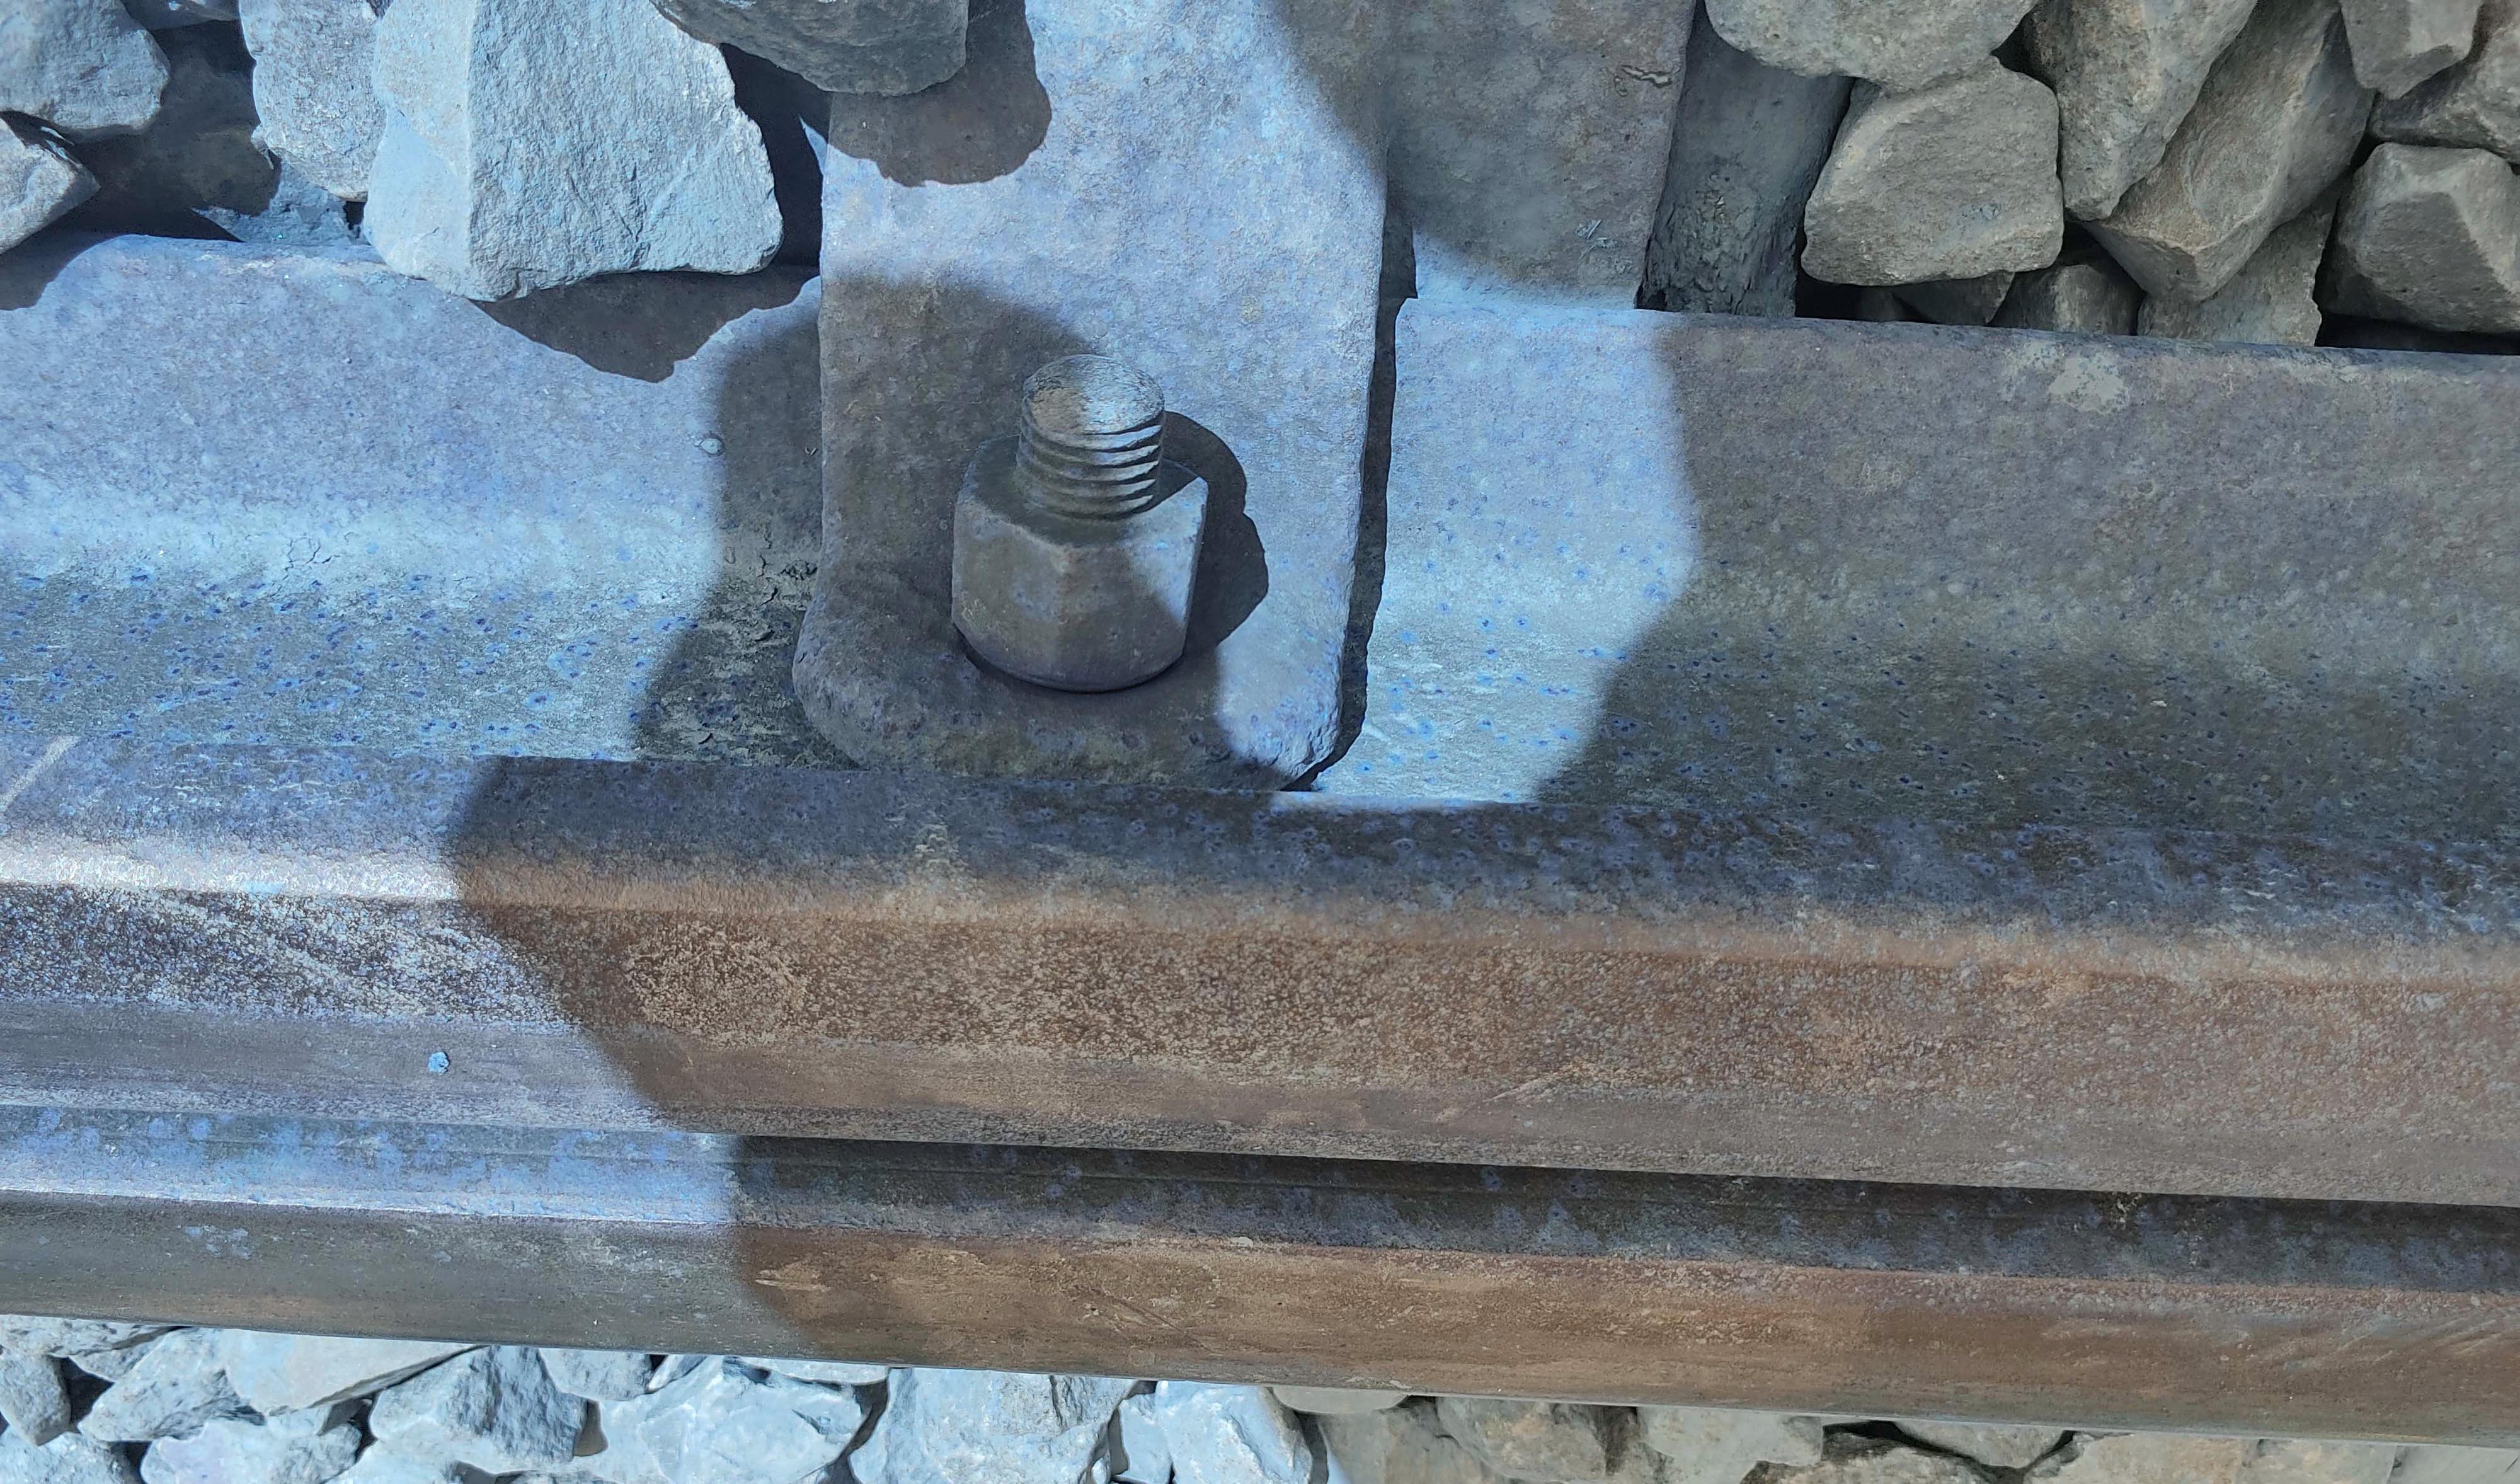error2: (904, 1019, 1623, 1341)
